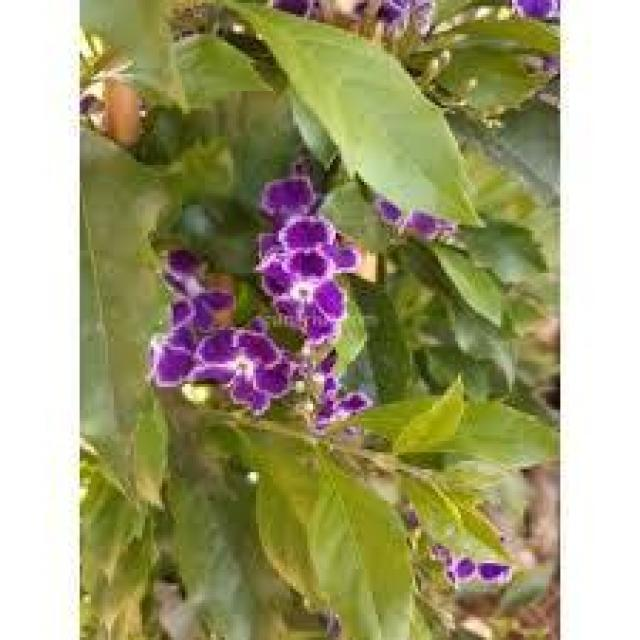organic waste: (121, 159, 391, 435)
